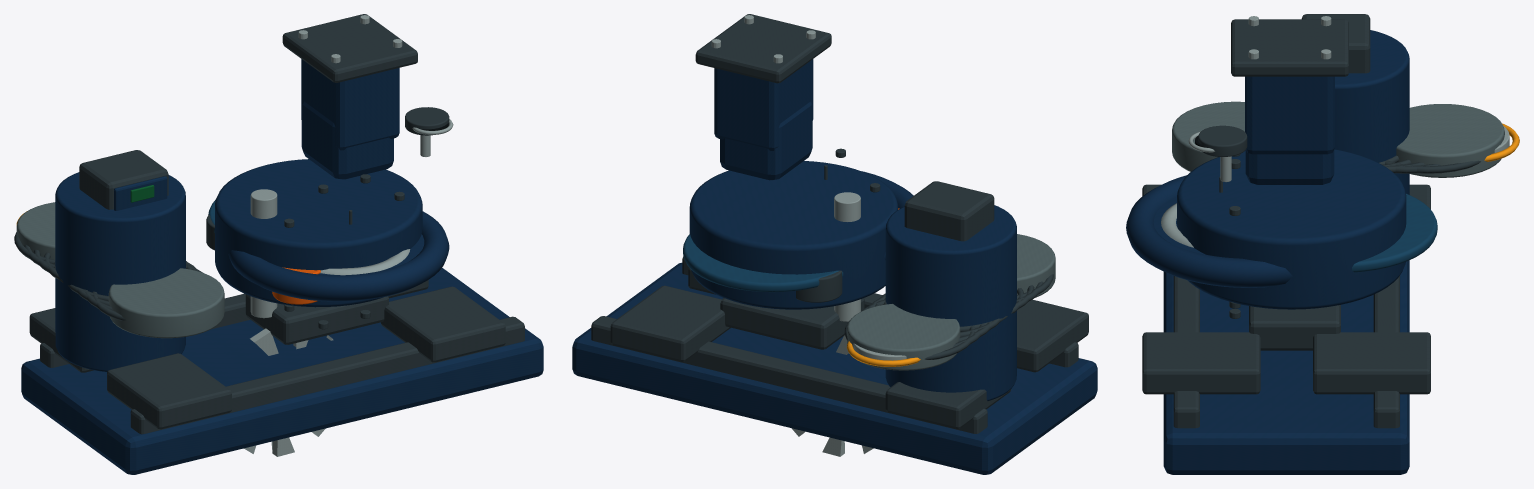
The model's file is BLOWER-001.fbx.
3 renders of one model, left to right at view 1: azimuth 30°, elevation 25°; view 2: azimuth 150°, elevation 25°; view 3: azimuth 270°, elevation 25°, orthographic. The views are drawn at different scales.
Visible parts, largest first — view 1: BlowerSkid_Mesh, ScrollShell_Mesh, MotorBody_Mesh, ScrollRim_Mesh, SkidFrontRail_Mesh, MachineFoot_Mesh, MotorFrontEndbell_Mesh, MachineFoot_Mesh.002, OutletDuctVertical_Mesh, OutletDuctFlange_Mesh, OutletNeck_Mesh, ScrollFoot_Mesh (+9 smaller); view 2: BlowerSkid_Mesh, ScrollShell_Mesh, MotorBody_Mesh, SkidRearRail_Mesh, MachineFoot_Mesh.003, OutletDuctVertical_Mesh, OutletDuctFlange_Mesh, MotorRearEndbell_Mesh, ControlBox_Mesh, ScrollFoot_Mesh, MachineFoot_Mesh, OutletNeck_Mesh (+8 smaller); view 3: ScrollShell_Mesh, BlowerSkid_Mesh, MotorBody_Mesh, MachineFoot_Mesh.002, MachineFoot_Mesh.003, OutletDuctVertical_Mesh, OutletDuctFlange_Mesh, ScrollRim_Mesh, MotorRearEndbell_Mesh, ScrollFoot_Mesh, OutletNeck_Mesh, MotorFrontEndbell_Mesh (+8 smaller).
Part boxes in pixels (box(x1,y1,x2,y2)): BlowerSkid_Mesh: box(21, 267, 543, 474); ScrollShell_Mesh: box(215, 159, 422, 307); MotorBody_Mesh: box(55, 172, 185, 371); ScrollRim_Mesh: box(228, 211, 449, 301); SkidFrontRail_Mesh: box(130, 316, 524, 434); MachineFoot_Mesh: box(107, 353, 231, 429); MotorFrontEndbell_Mesh: box(108, 268, 224, 338); MachineFoot_Mesh.002: box(381, 286, 505, 362); OutletDuctVertical_Mesh: box(301, 59, 399, 150); OutletDuctFlange_Mesh: box(282, 14, 417, 82); OutletNeck_Mesh: box(301, 101, 393, 179); ScrollFoot_Mesh: box(245, 294, 388, 344); BlowerSkid_Mesh: box(572, 262, 1097, 474); ScrollShell_Mesh: box(689, 161, 898, 309); MotorBody_Mesh: box(885, 205, 1016, 400); SkidRearRail_Mesh: box(591, 316, 987, 433); MachineFoot_Mesh.003: box(610, 285, 730, 361); OutletDuctVertical_Mesh: box(714, 59, 813, 150); OutletDuctFlange_Mesh: box(695, 14, 831, 83); MotorRearEndbell_Mesh: box(847, 303, 960, 370); ControlBox_Mesh: box(904, 181, 994, 241); ScrollFoot_Mesh: box(720, 298, 864, 349); MachineFoot_Mesh: box(1017, 299, 1088, 372); OutletNeck_Mesh: box(720, 101, 812, 180); ScrollShell_Mesh: box(1177, 149, 1406, 309); BlowerSkid_Mesh: box(1163, 260, 1409, 474); MotorBody_Mesh: box(1334, 30, 1409, 194); MachineFoot_Mesh.002: box(1142, 332, 1260, 394); MachineFoot_Mesh.003: box(1313, 332, 1430, 394); OutletDuctVertical_Mesh: box(1245, 76, 1334, 154); OutletDuctFlange_Mesh: box(1231, 19, 1348, 76); ScrollRim_Mesh: box(1126, 175, 1292, 287); MotorRearEndbell_Mesh: box(1396, 104, 1504, 177); ScrollFoot_Mesh: box(1249, 305, 1340, 350); OutletNeck_Mesh: box(1245, 150, 1334, 184); MotorFrontEndbell_Mesh: box(1172, 101, 1244, 171).
Size of the model in its own units: 325 by 297 by 240.
1 material, 1 textured.
